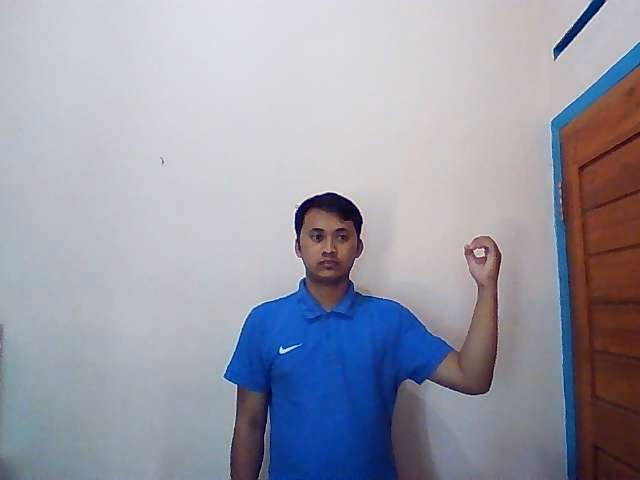O: (463, 234, 504, 286)
